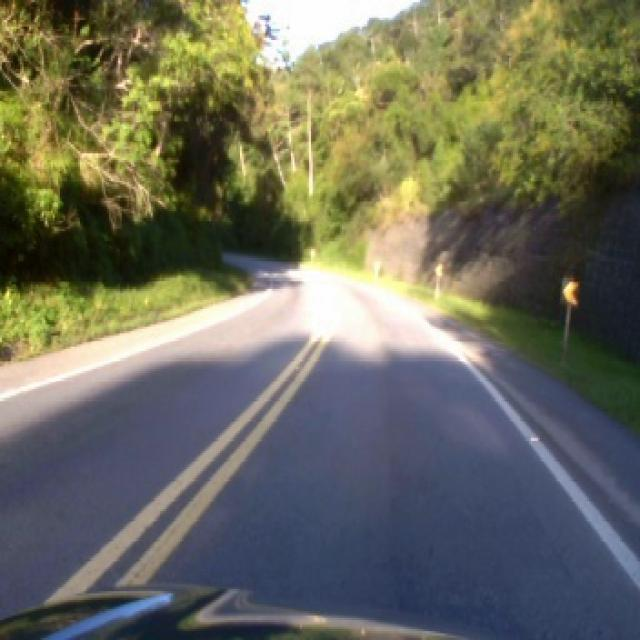Poth-hole: (527, 433, 538, 440), (293, 364, 302, 369)
